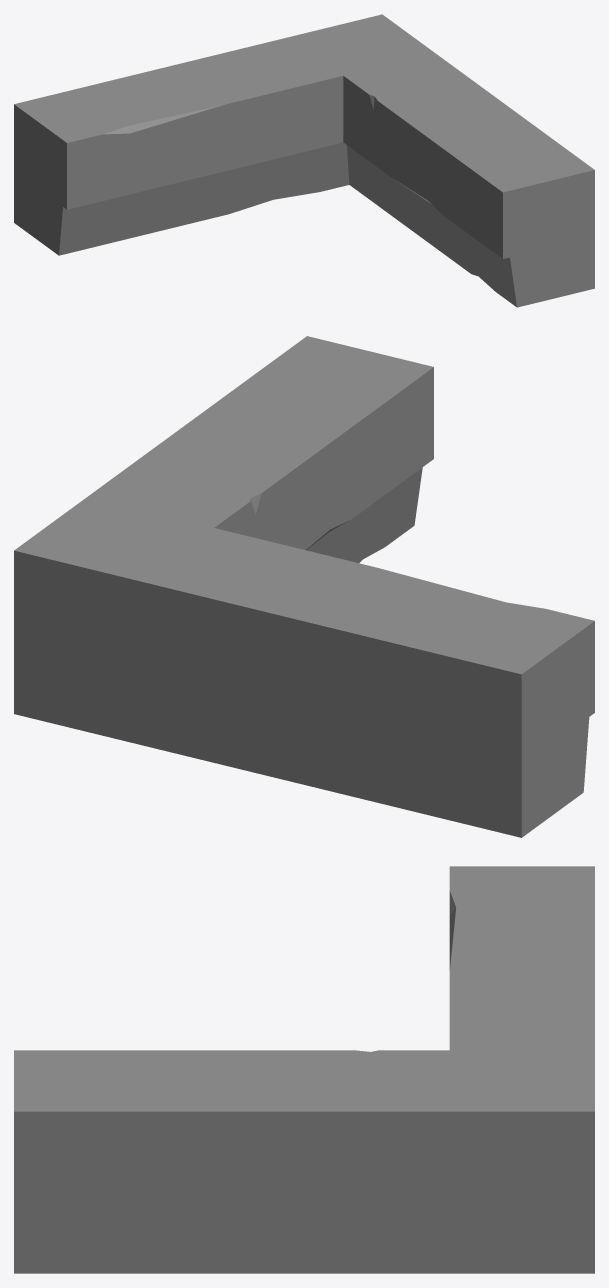
File: SW_ENV_ConcreteLedge_InnerCrnr.fbx
3 views of the same model, one above another, from view 1: azimuth 30°, elevation 25°; view 2: azimuth 150°, elevation 25°; view 3: azimuth 270°, elevation 25° (orthographic). The views are drawn at different scales.
Parts seen in each view (by area): view 1: SW_ENV_ConcreteLedge_InnerCrnr; view 2: SW_ENV_ConcreteLedge_InnerCrnr; view 3: SW_ENV_ConcreteLedge_InnerCrnr.
Part boxes in pixels (<box>): SW_ENV_ConcreteLedge_InnerCrnr: <box>14,14,594,307</box>; SW_ENV_ConcreteLedge_InnerCrnr: <box>14,336,594,837</box>; SW_ENV_ConcreteLedge_InnerCrnr: <box>14,866,594,1273</box>.
Size of the model in its own units: 130 by 40 by 130.
